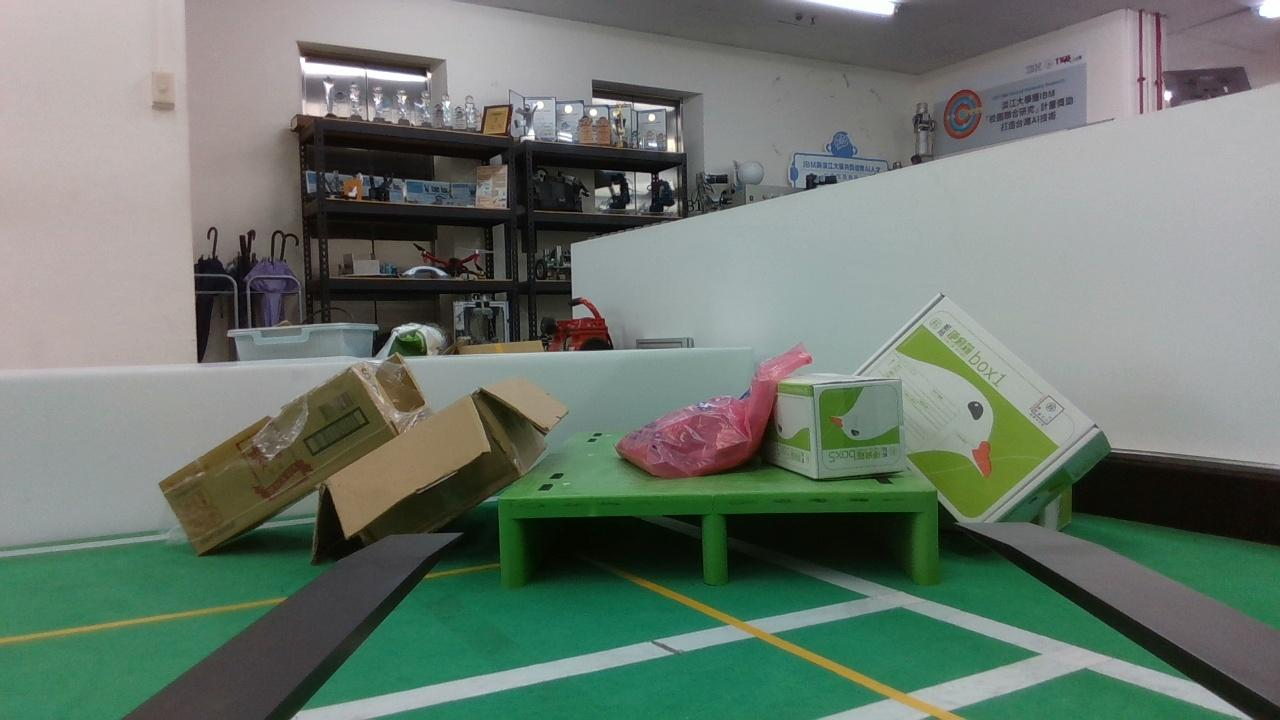Pallet: (499, 487, 941, 586)
